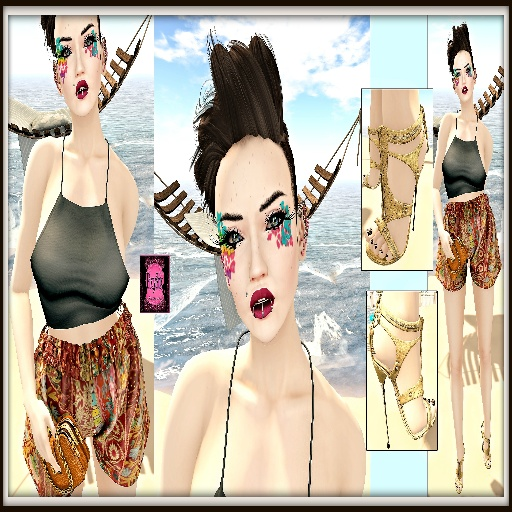hand: (23, 383, 50, 469), (438, 229, 455, 260)
